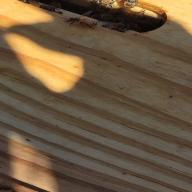Bee: (61, 15, 86, 32)
